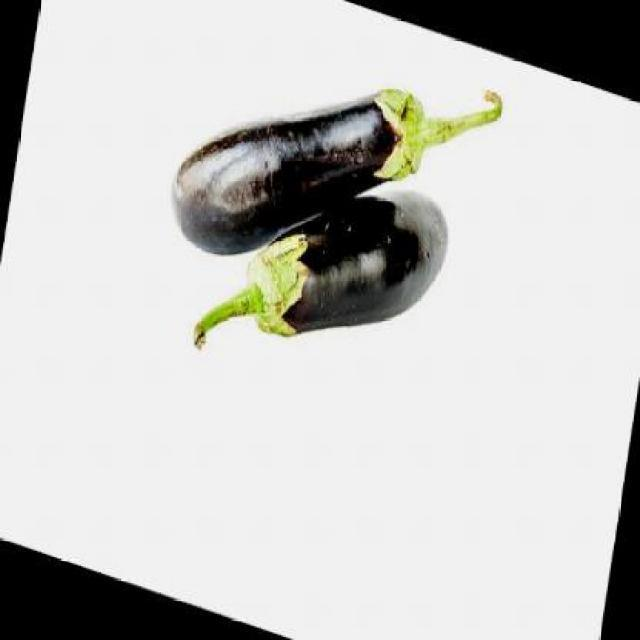eggplant: (175, 87, 501, 253), (189, 183, 456, 354)
